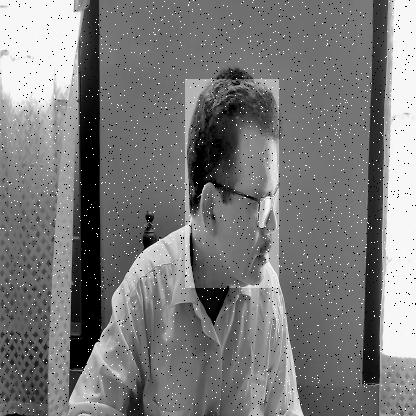Distracted: (185, 79, 279, 288)
